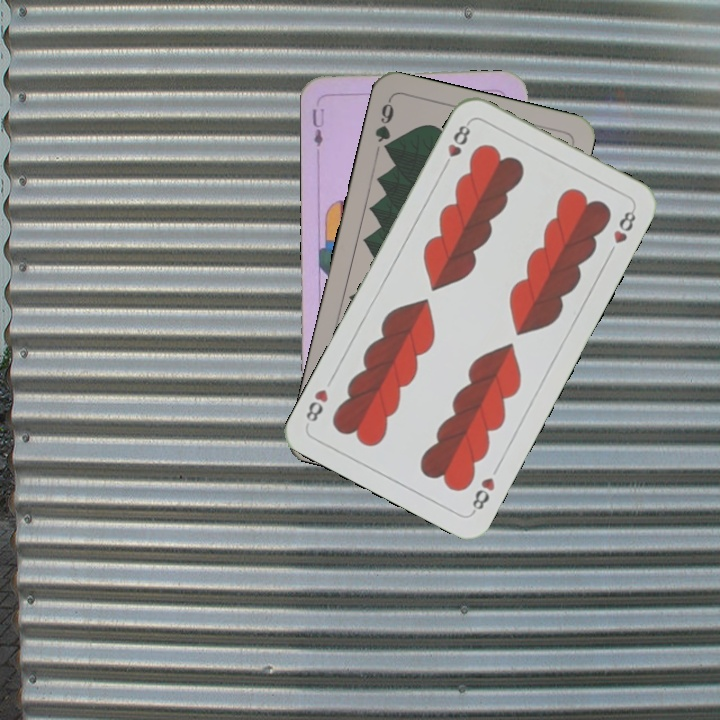EU: (308, 105, 327, 155)
G9: (371, 95, 397, 156)
H8: (439, 118, 473, 172), (468, 473, 498, 516)
